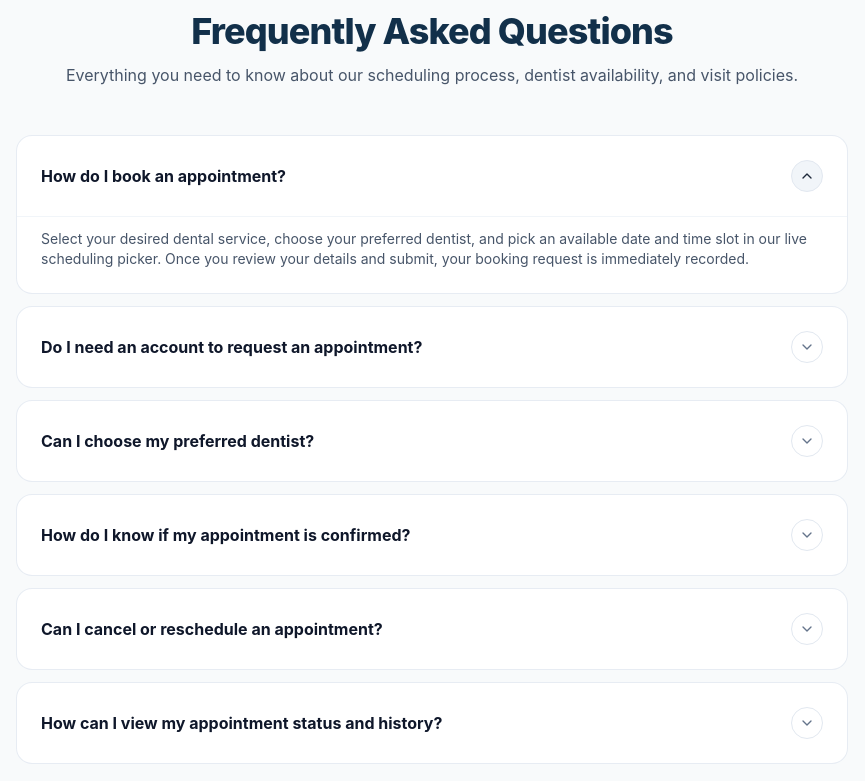
Test: Landing Page Animations › animates FAQ accordion panels via intrinsic data-open state transitions
Click the button "Do I need an account to request an appointment?" at (232, 347), box [17, 307, 847, 387]
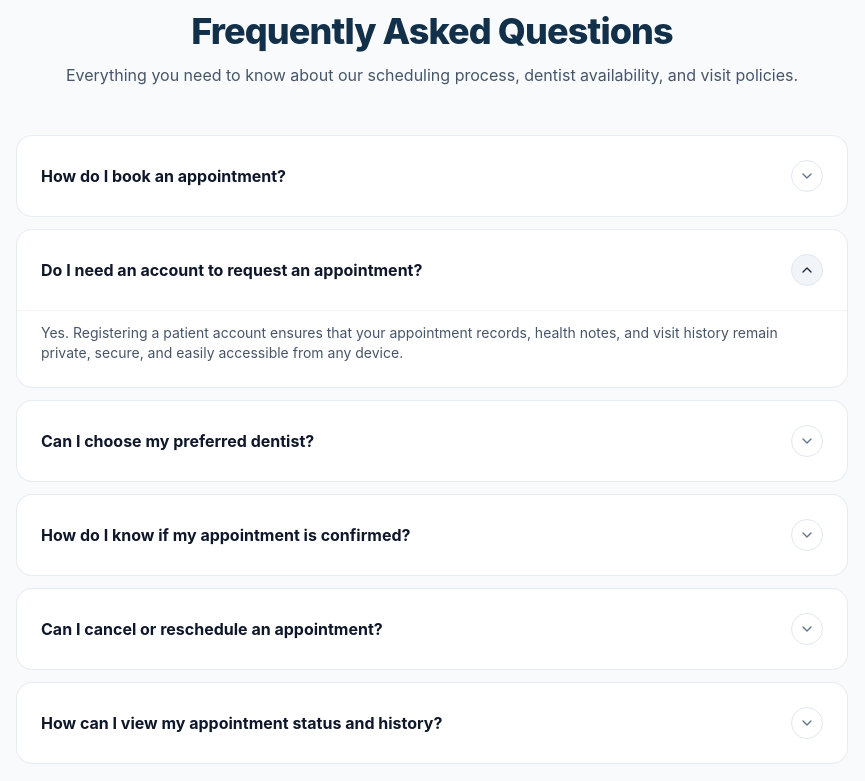
Expected: the button "Do I need an account to request an appointment?" is expanded, [17, 230, 847, 310]
